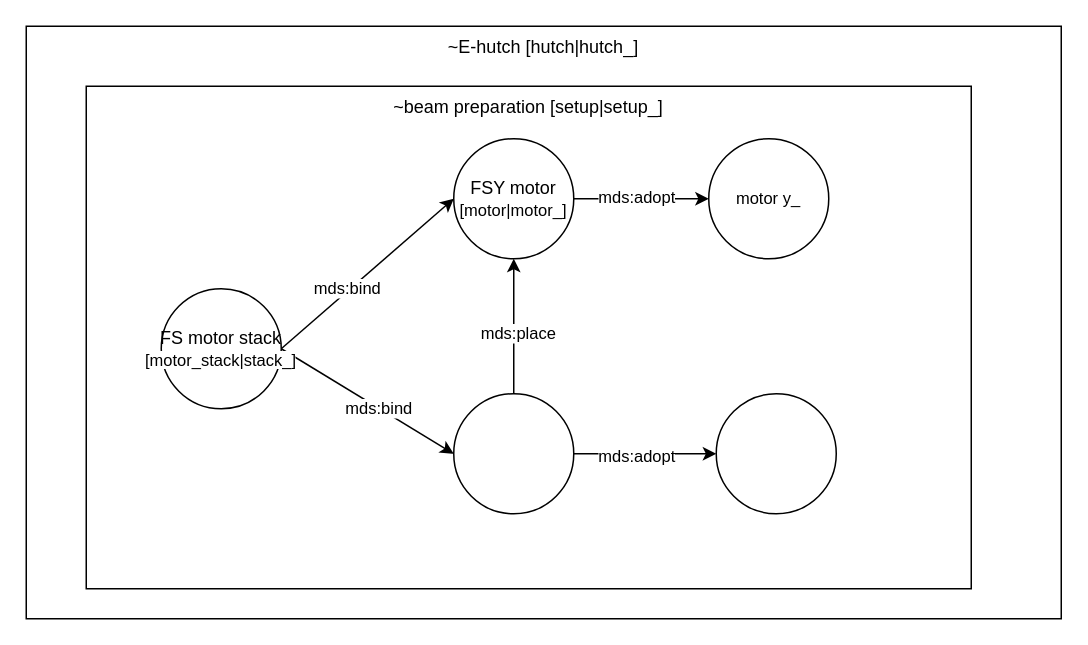
Some shapes in this 1088 by 645 pixel diagram are drawn without their labels. The centre of each missing label's shape, as x and y in pixels:
"FSX motor [motor|motor_]" goes at point 513,453.
"motor x_" goes at point 775,453.
